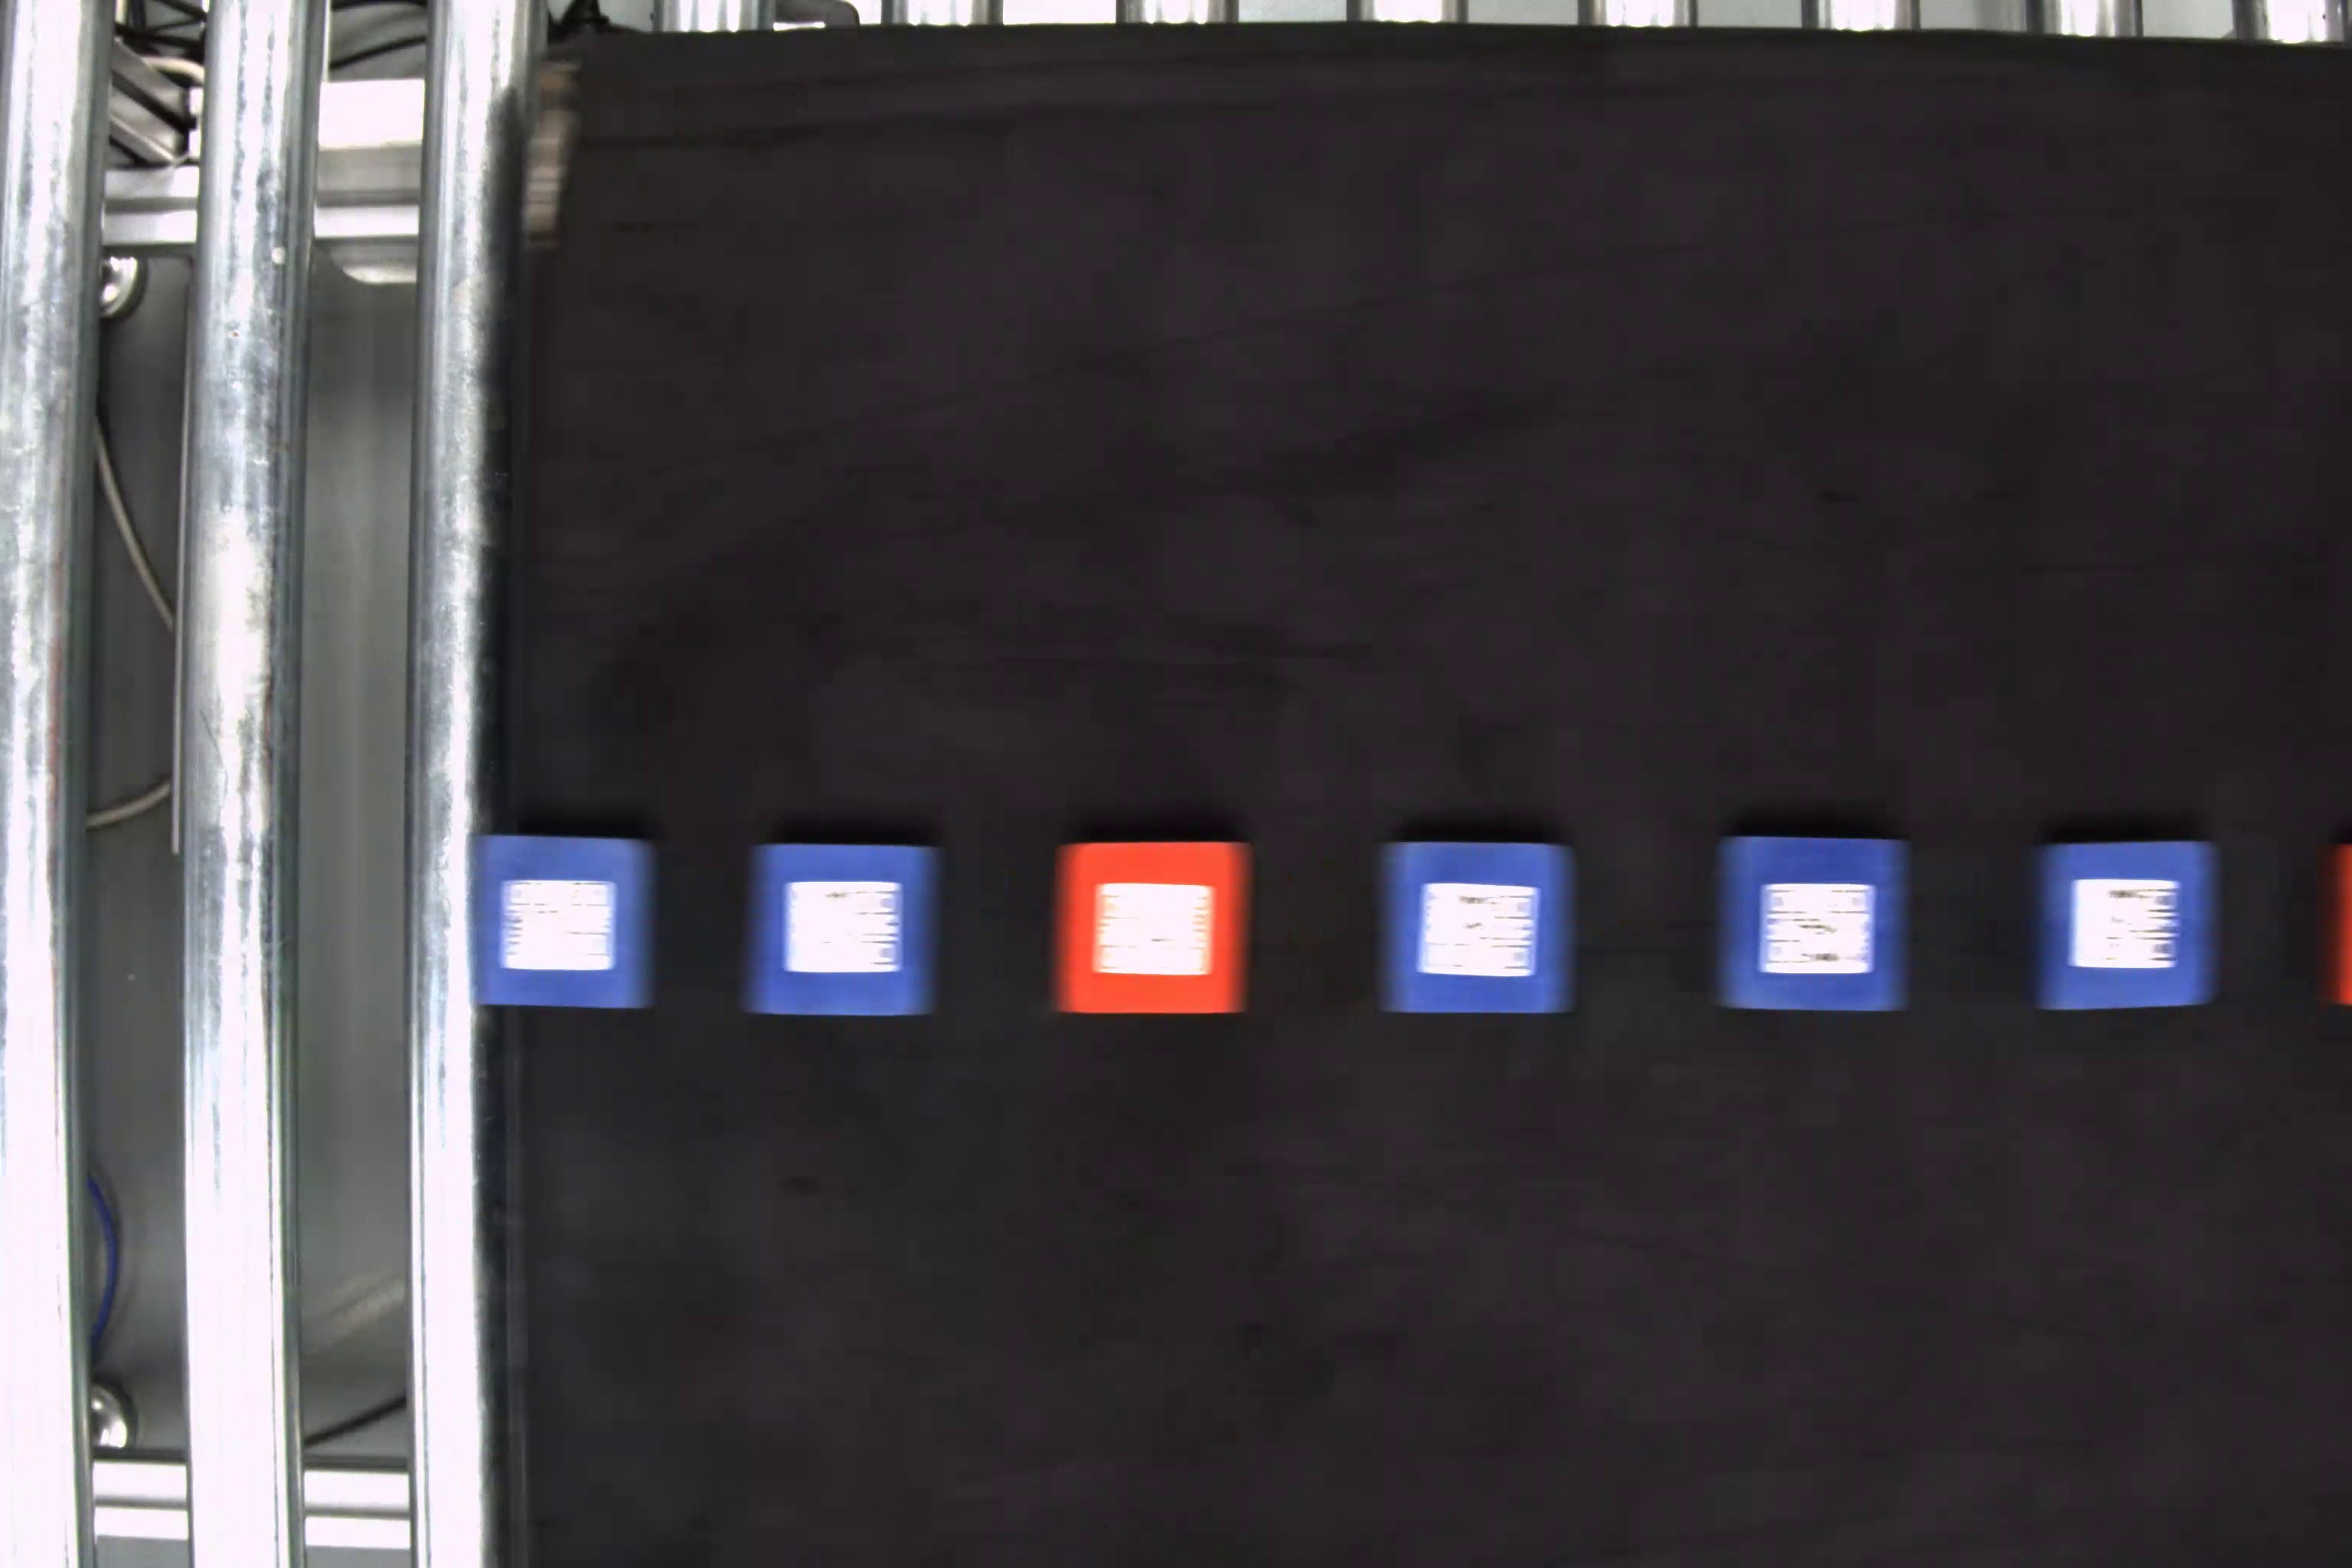wood: (1377, 833, 1582, 1022), (1710, 826, 1911, 1011), (469, 831, 661, 1015), (2035, 833, 2219, 1018), (747, 843, 941, 1018), (1053, 840, 1249, 1006)
